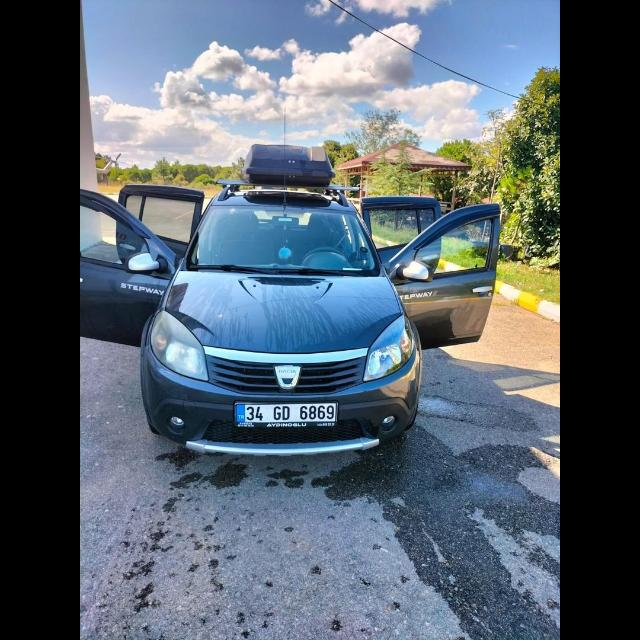Plaka: (236, 403, 336, 421)
